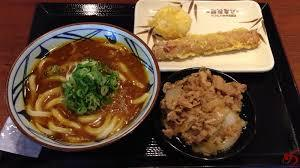curry: (8, 25, 152, 148)
satumaimo: (152, 6, 191, 37)
